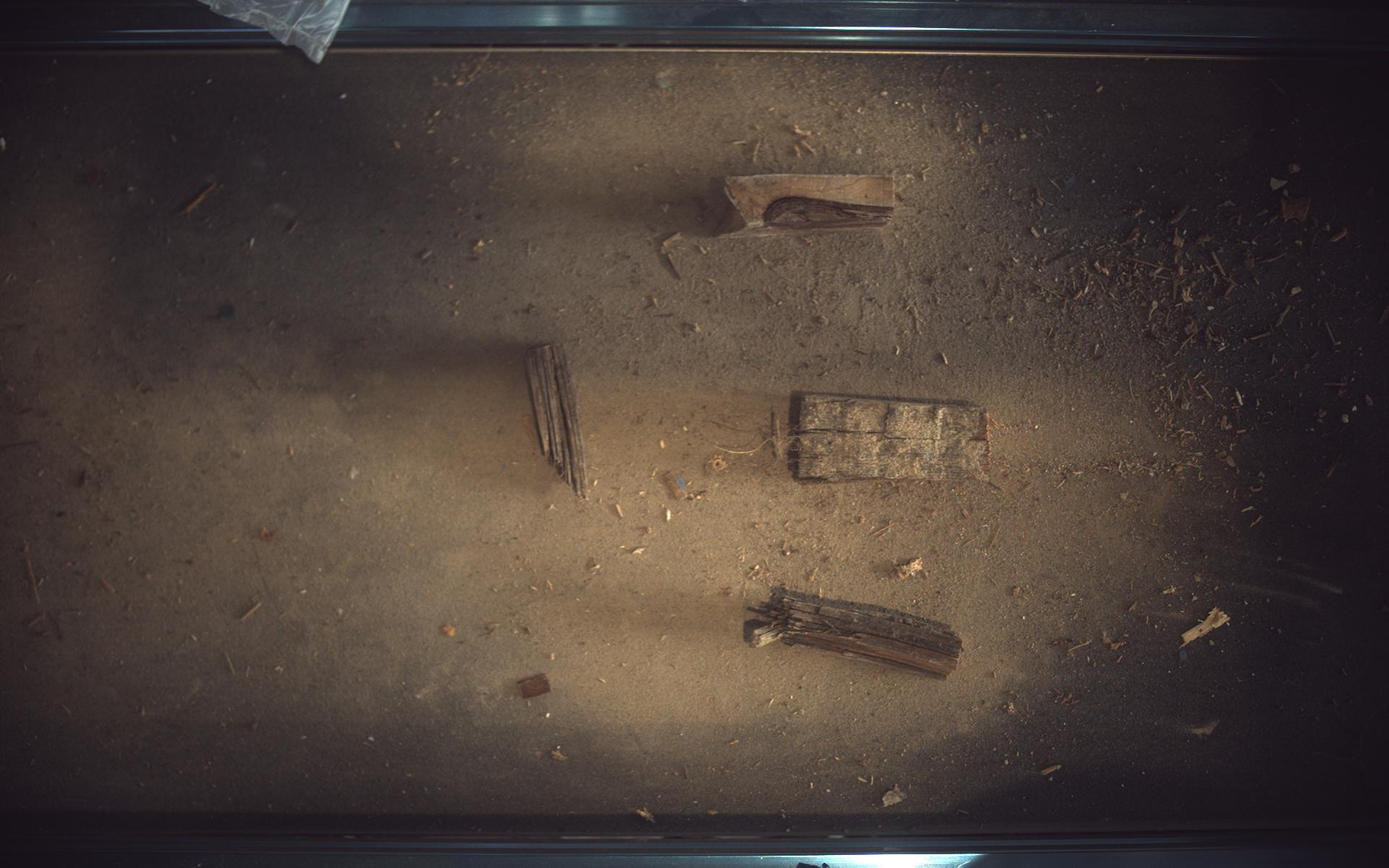wood: (746, 587, 964, 679), (799, 394, 990, 481), (720, 173, 897, 237), (527, 343, 589, 498)
